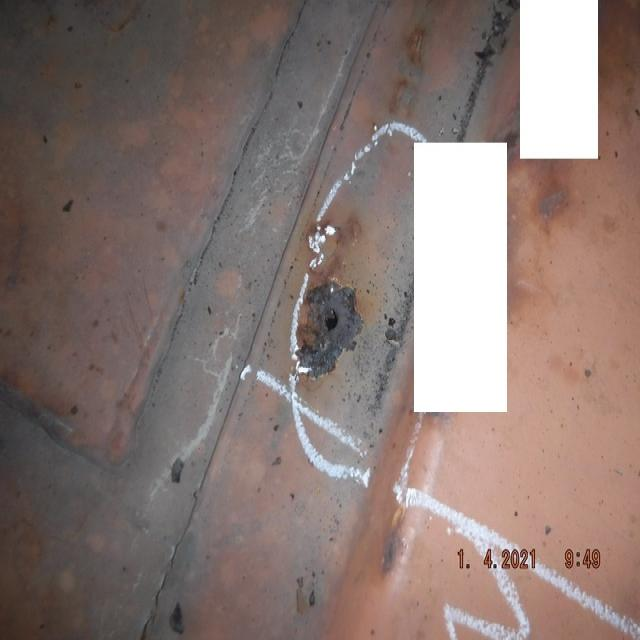hole: (297, 275, 368, 384)
